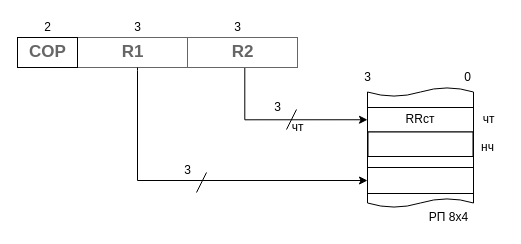
Some shapes in this 521 by 244 pixel diagram are drawn without their labels. Here are the shapes that lost their labels. From the top down, the box of each, then its label:
(367, 131, 473, 156): Операнд 2/ RRмл
(366, 166, 474, 194): Операнд 1
